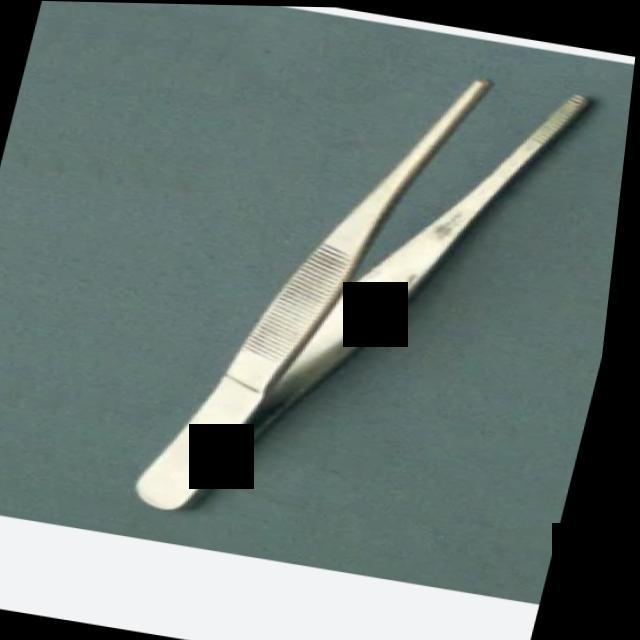Disscting Forceps -Plain-: (117, 31, 618, 566)
